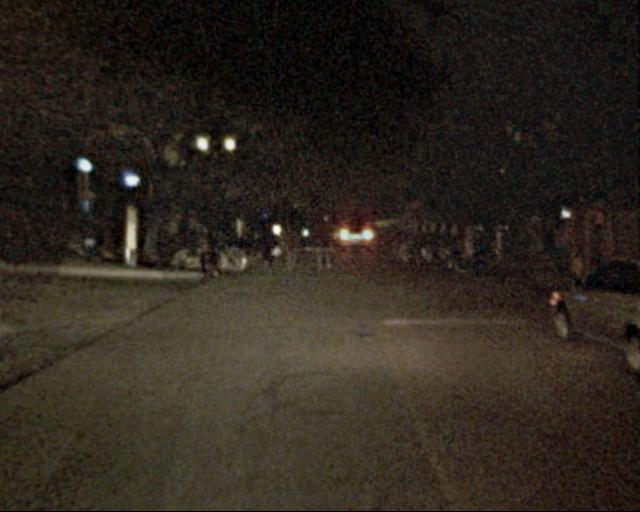person: (193, 218, 220, 281), (313, 223, 334, 278), (253, 219, 275, 269), (280, 226, 301, 275)
